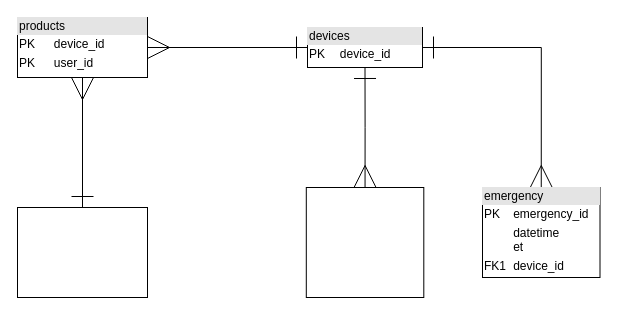
The diagram is 618 pixels wide and 315 high, and some of its shapes have lost their labels. Each missing label, with the centre of its shape:
"journey PK journey_id datetime rtt tt FK1 device_id" goes at point 364,242.
"users PK user_id UK username password usertype" goes at point 82,252.
